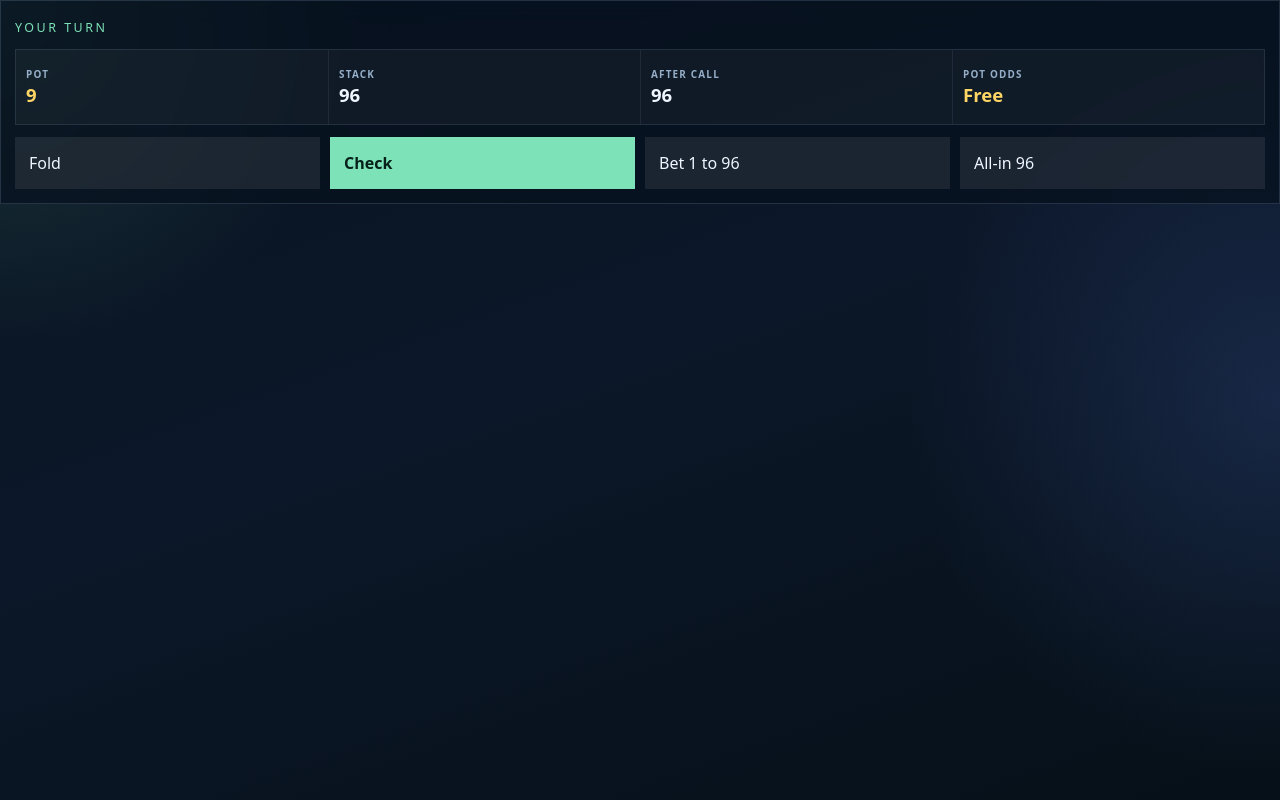
it: ActionBar › updates the bet input with ceiling-rounded shortcut sizes
This screenshot has width=1280, height=800.
Step 1. Click the button "Bet 1 to 96" → point(699, 163), box x1=645 y1=137 x2=950 y2=189
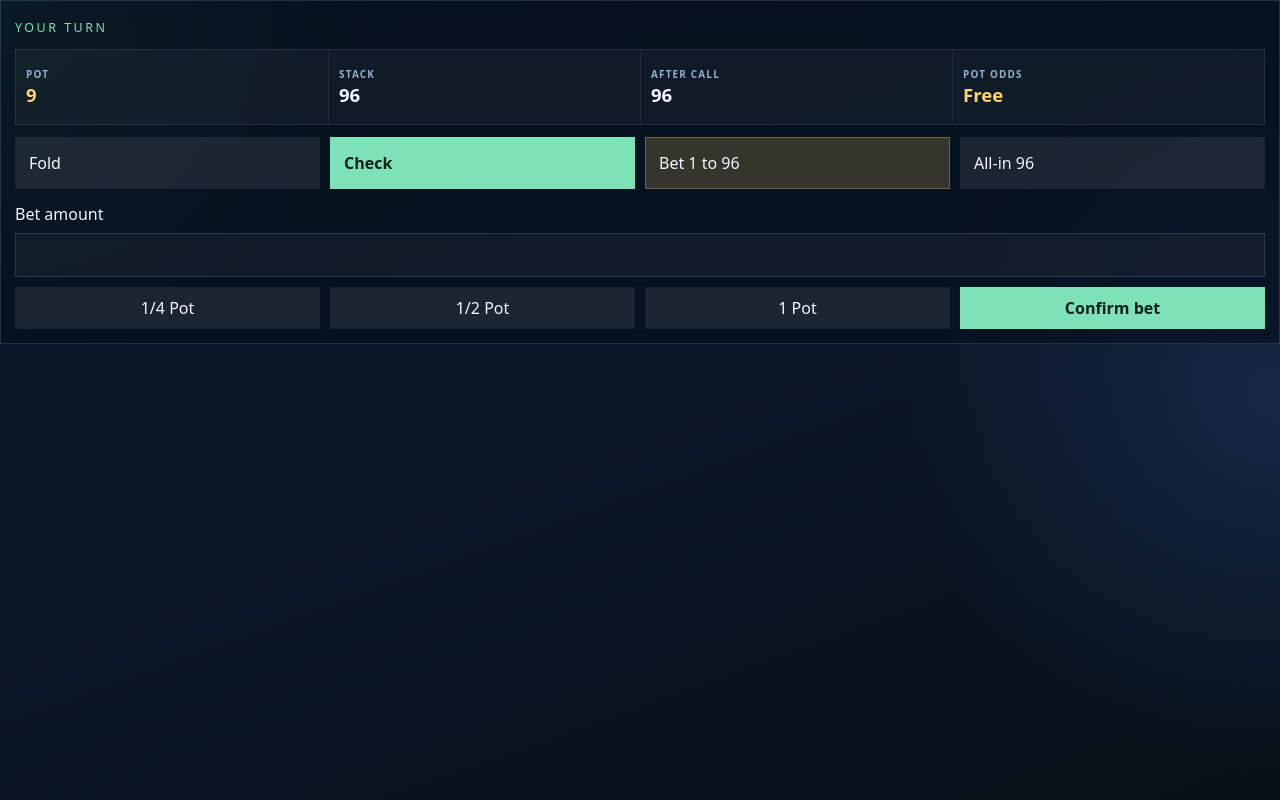
Expected: the number field labelled "Bet amount" is empty, x1=15 y1=233 x2=1265 y2=277
Step 2. Click the button "1/4 Pot" → point(168, 308), box x1=15 y1=287 x2=320 y2=329
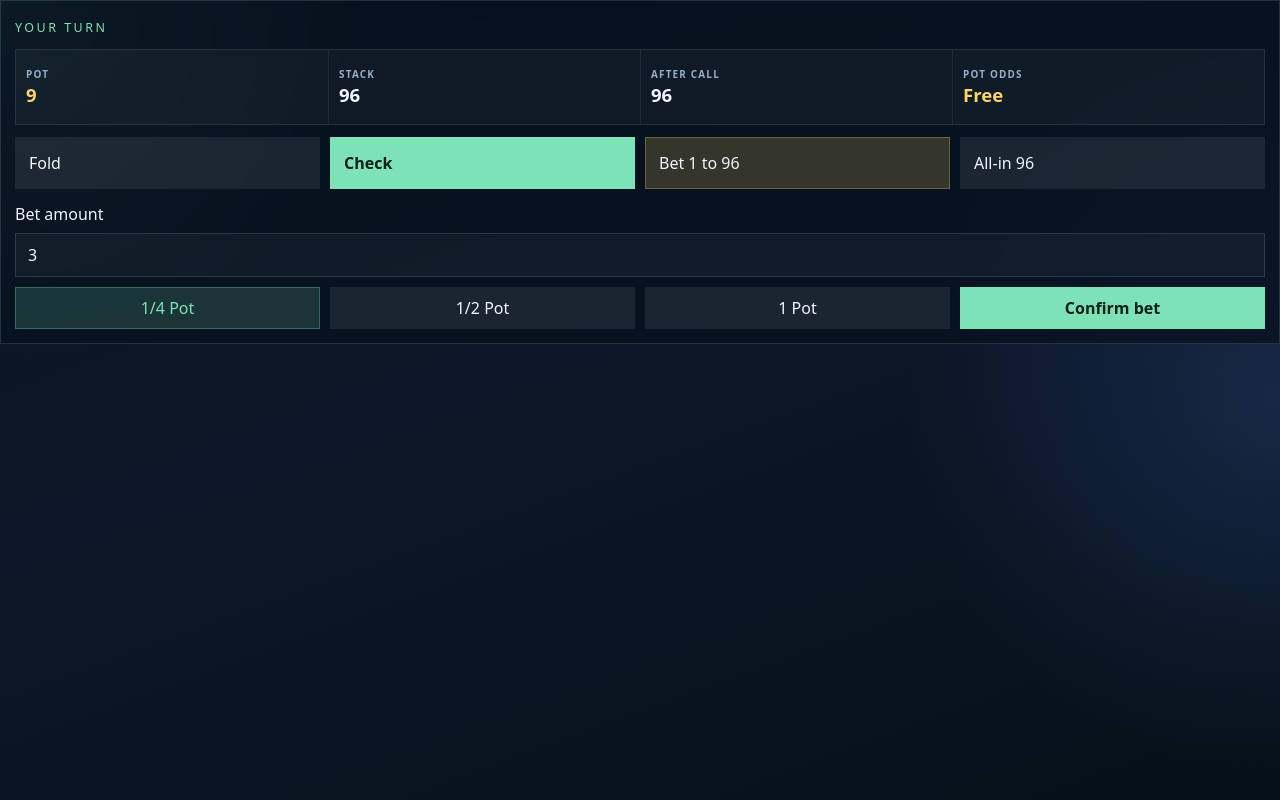
Now the number field labelled "Bet amount" holds "3", box x1=15 y1=233 x2=1265 y2=277
Step 3. Click the button "1/2 Pot" → point(482, 308), box x1=330 y1=287 x2=635 y2=329
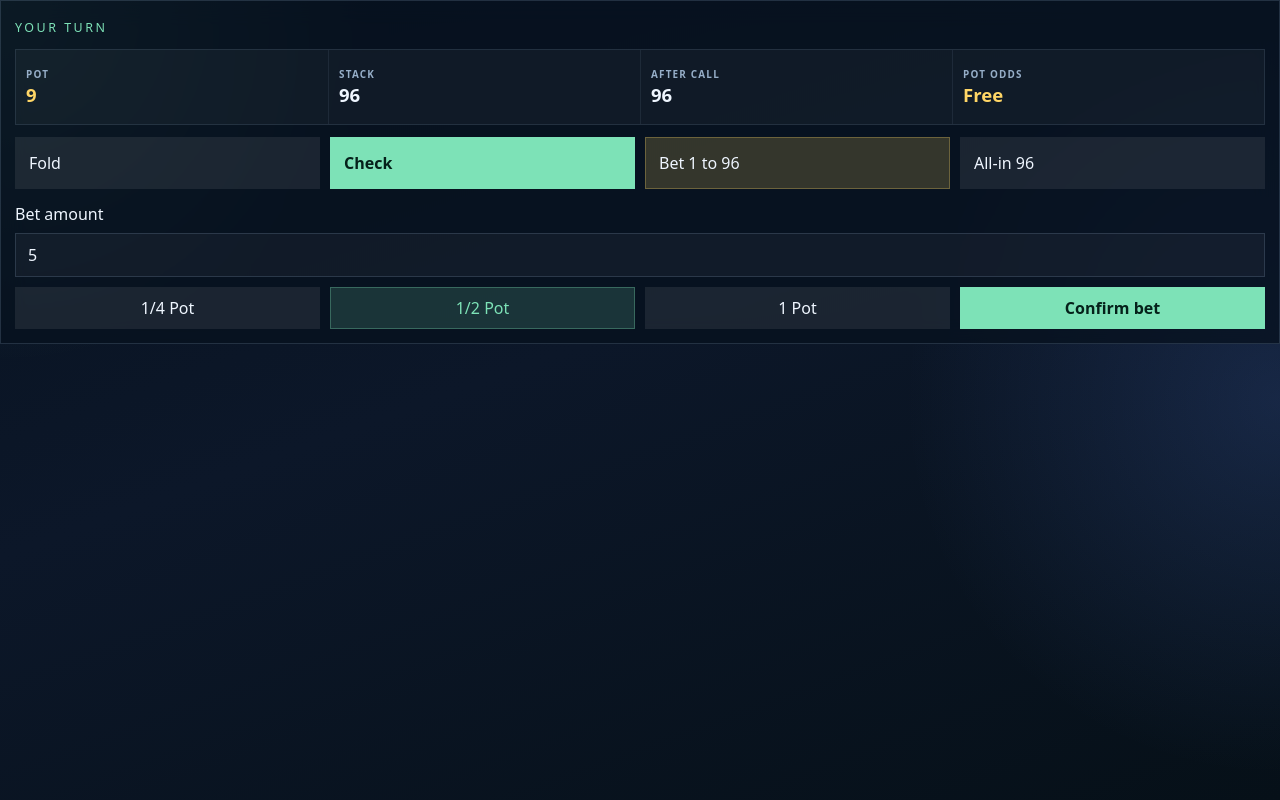
Now the number field labelled "Bet amount" holds "5", box x1=15 y1=233 x2=1265 y2=277
